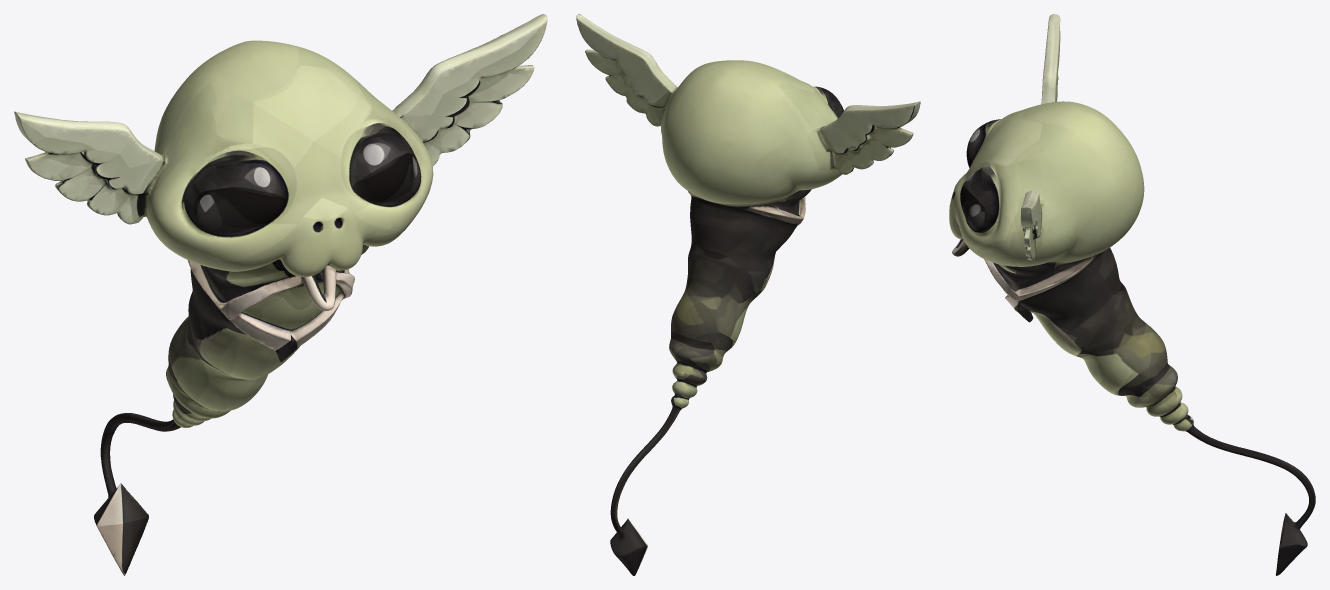
Rendered from SkullWisp.glb.
The picture shows the model from 3 angles, left to right: view 1: azimuth 30°, elevation 25°; view 2: azimuth 150°, elevation 25°; view 3: azimuth 270°, elevation 25°; orthographic projection. The views are drawn at different scales.
Parts seen in each view (by area): view 1: tripo_node_a900d7df-dd2c-4c01-9c52-f07ba9792852; view 2: tripo_node_a900d7df-dd2c-4c01-9c52-f07ba9792852; view 3: tripo_node_a900d7df-dd2c-4c01-9c52-f07ba9792852.
Part boxes in pixels (bbox=[...]): tripo_node_a900d7df-dd2c-4c01-9c52-f07ba9792852: bbox=[14, 14, 547, 575]; tripo_node_a900d7df-dd2c-4c01-9c52-f07ba9792852: bbox=[576, 14, 920, 575]; tripo_node_a900d7df-dd2c-4c01-9c52-f07ba9792852: bbox=[949, 14, 1315, 575].
Bounding box in the file's own units: 0.8394 × 1 × 0.7084.
1 material, 1 textured.
